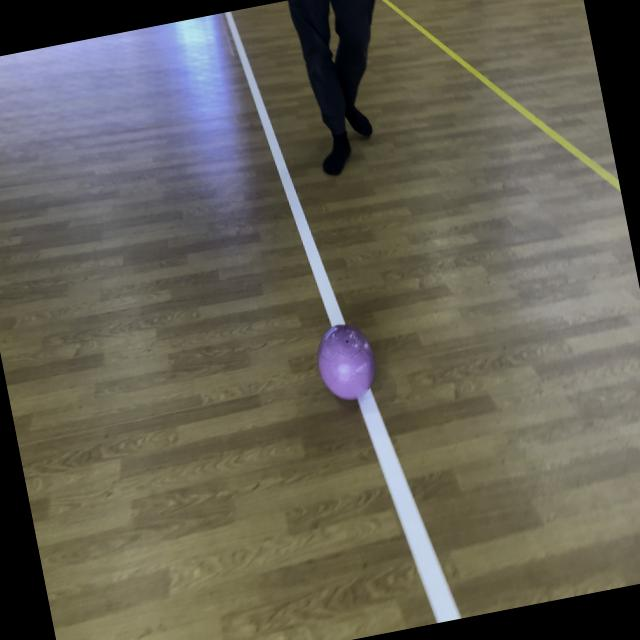purple_ball: (312, 321, 383, 406)
